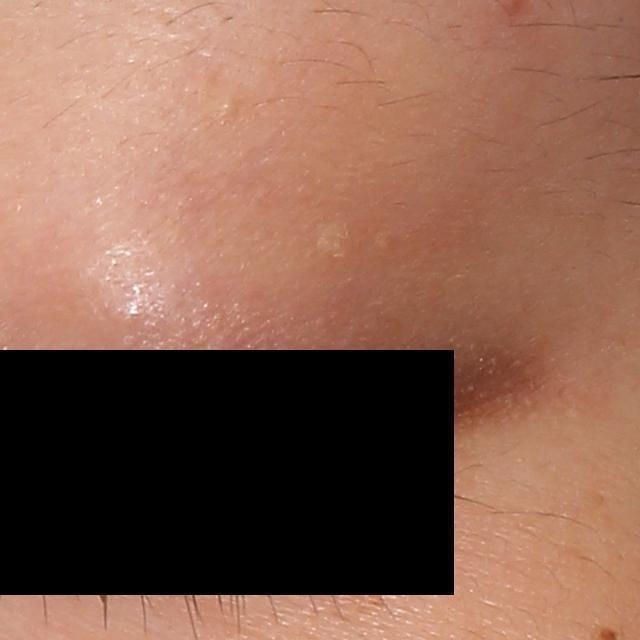other: (311, 216, 360, 258)
